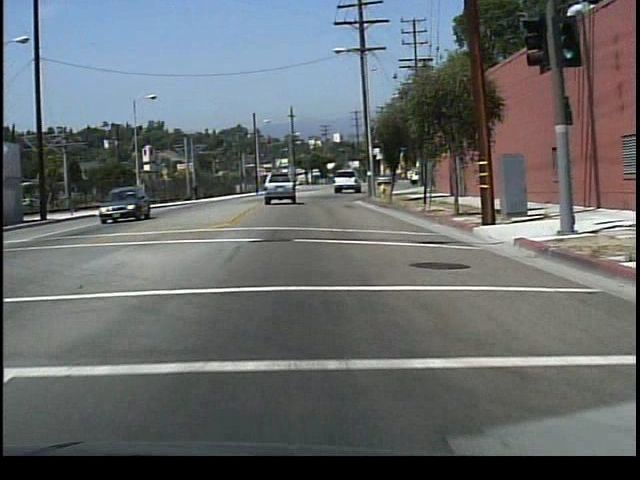person: (191, 181, 202, 202)
